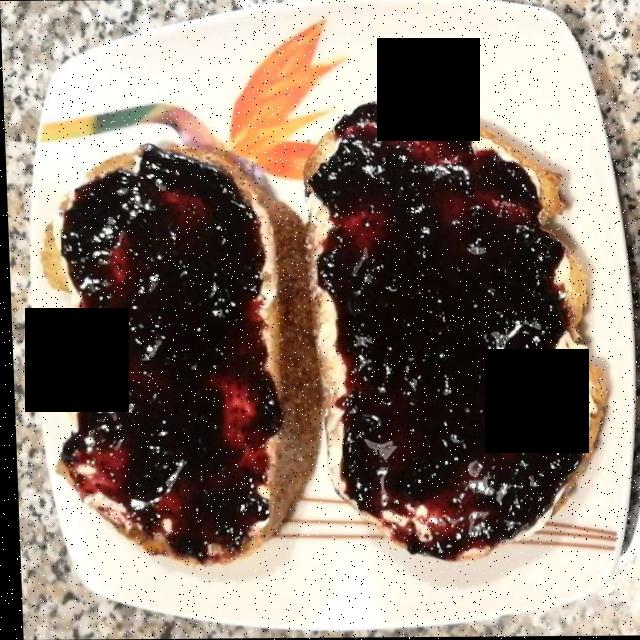jam: (52, 79, 574, 557)
